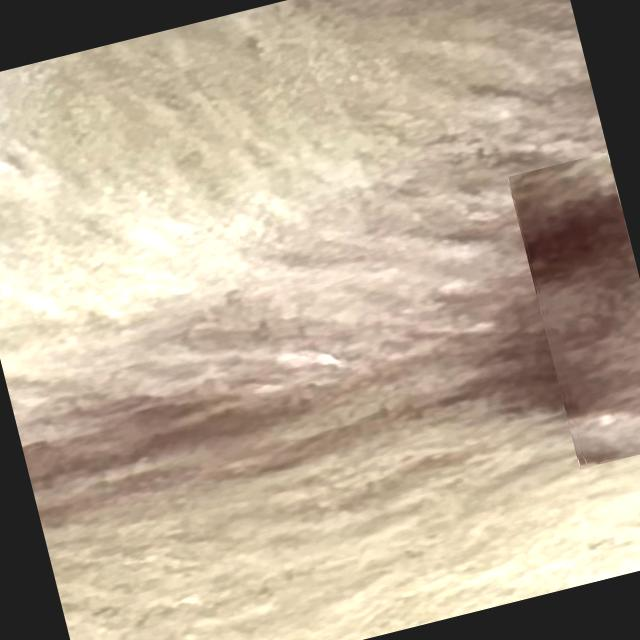fem: (507, 150, 640, 466)
